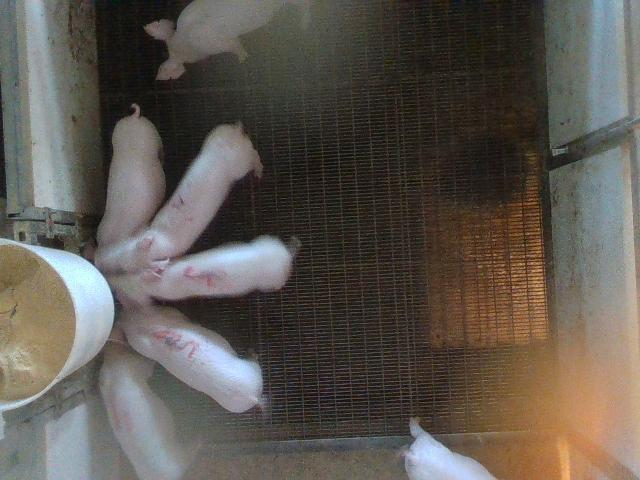pig-3: (110, 305, 262, 412)
pig-4: (99, 341, 188, 479)
pig-5: (106, 236, 292, 306)
